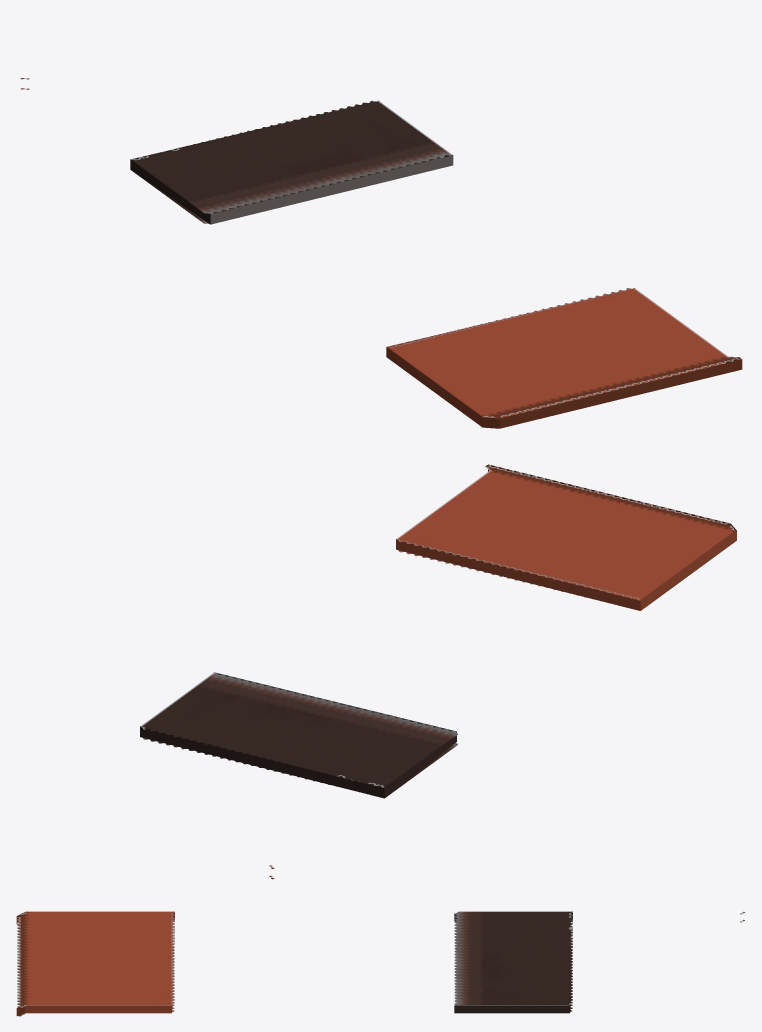
The model's file is pz_native_location_restaurant_seahorse_01_17_frame.obj.
The picture shows the model from 3 angles, top to bottom: view 1: azimuth 30°, elevation 25°; view 2: azimuth 150°, elevation 25°; view 3: azimuth 270°, elevation 25°; orthographic projection. The views are drawn at different scales.
Visible parts, largest first — view 1: pz_native_location_restaurant_seahorse_01_17_frame; view 2: pz_native_location_restaurant_seahorse_01_17_frame; view 3: pz_native_location_restaurant_seahorse_01_17_frame.
Boxes of the visible parts, x1,y1,x2,y2 form: pz_native_location_restaurant_seahorse_01_17_frame: (20,78,742,428); pz_native_location_restaurant_seahorse_01_17_frame: (140,464,736,879); pz_native_location_restaurant_seahorse_01_17_frame: (16,911,744,1016).
Bounding box in the file's own units: 1.06 × 0.04 × 3.32.
Materials: 1 (1 with a texture image).
